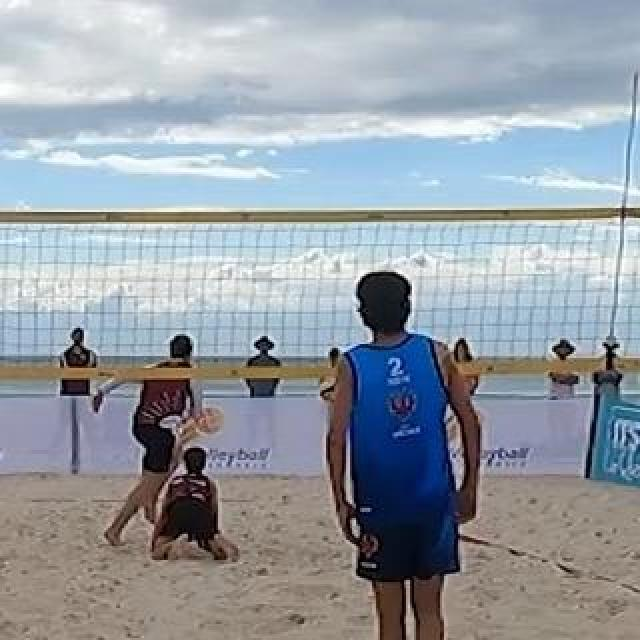volleyball: (318, 377, 340, 401)
